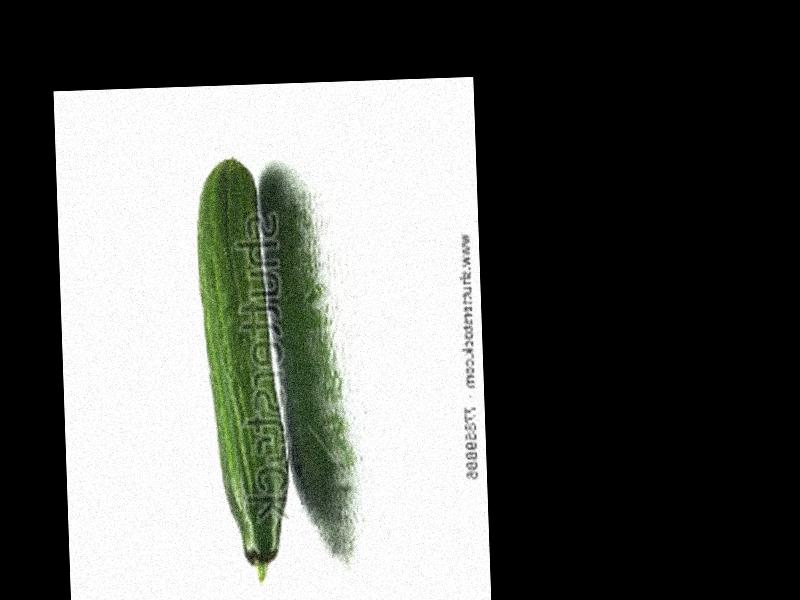Cucumber: (193, 160, 292, 582)
